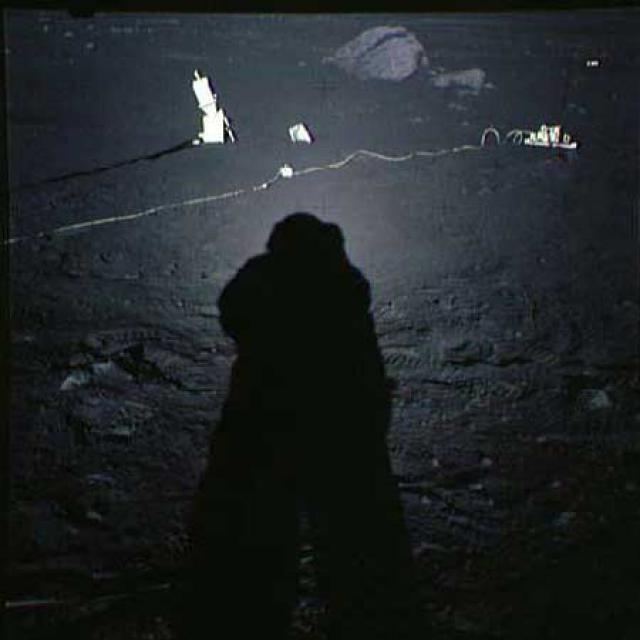artifact: (172, 63, 247, 148), (526, 118, 586, 152), (284, 118, 317, 147)
rock: (318, 22, 423, 86), (429, 65, 498, 92)
